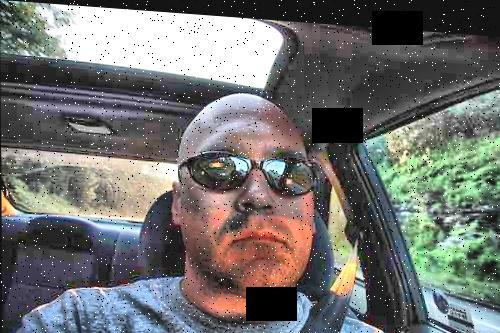seatbelt: (290, 215, 373, 333)
